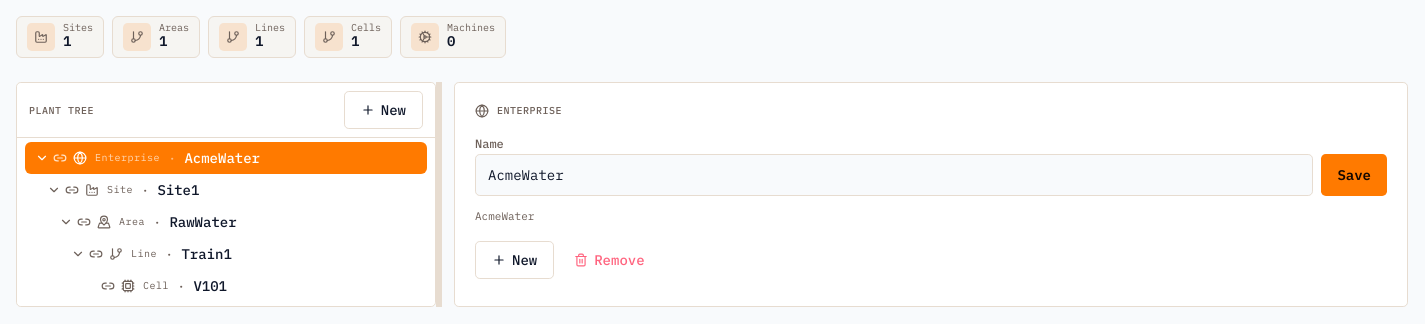
Test: the plant hierarchy editor › keeps the current selection when only the chevron is clicked
Click the button with aria-label "Cell V101" at (210,286), box [117,270,427,302]
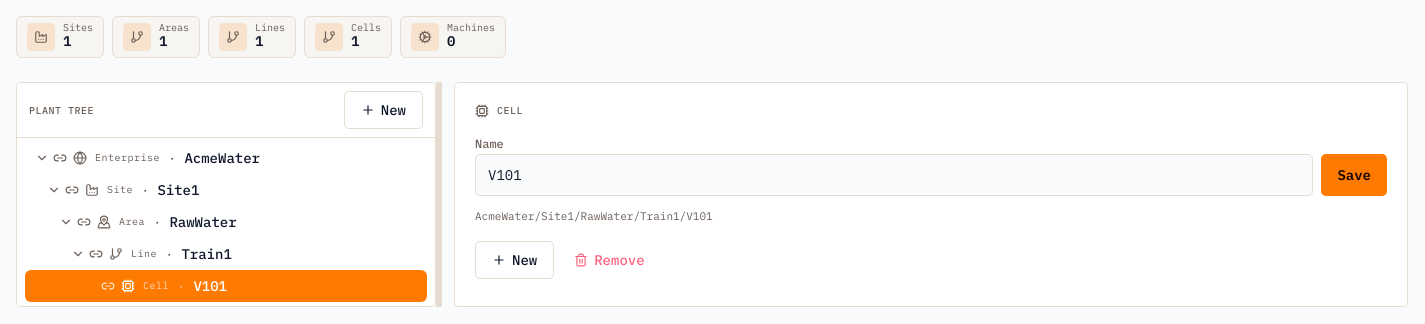
Result: the field labelled "Name" holds "V101" at [475,154,1313,196]
Click the button named "Collapse Line Train1" at (78,254), box [69,245,87,263]
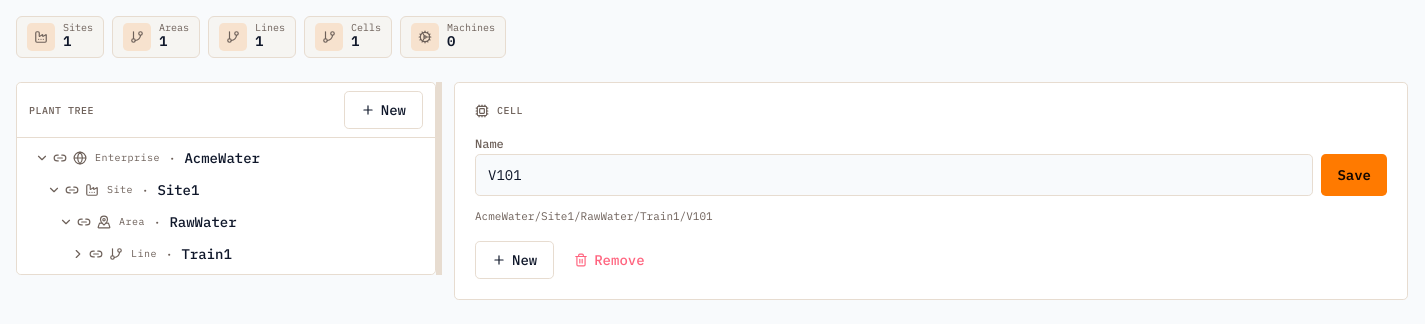
Result: the field labelled "Name" holds "V101" at [475,154,1313,196]
Result: the button "Cell V101" is gone
